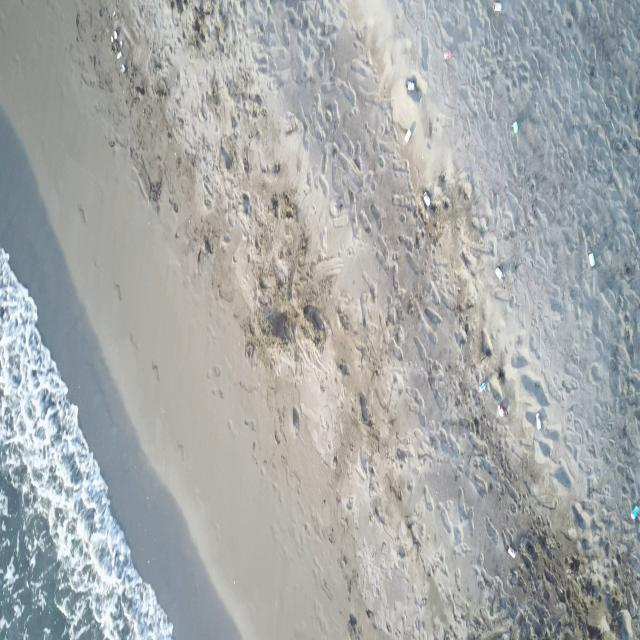tin-and-aluminum-cans: (630, 503, 640, 520), (495, 266, 504, 283), (588, 250, 596, 269), (497, 404, 506, 420), (422, 191, 431, 207), (492, 0, 502, 12), (507, 545, 516, 558), (404, 128, 411, 144), (536, 412, 542, 430), (407, 80, 415, 92), (443, 50, 452, 60), (512, 121, 518, 133), (479, 382, 486, 392)
